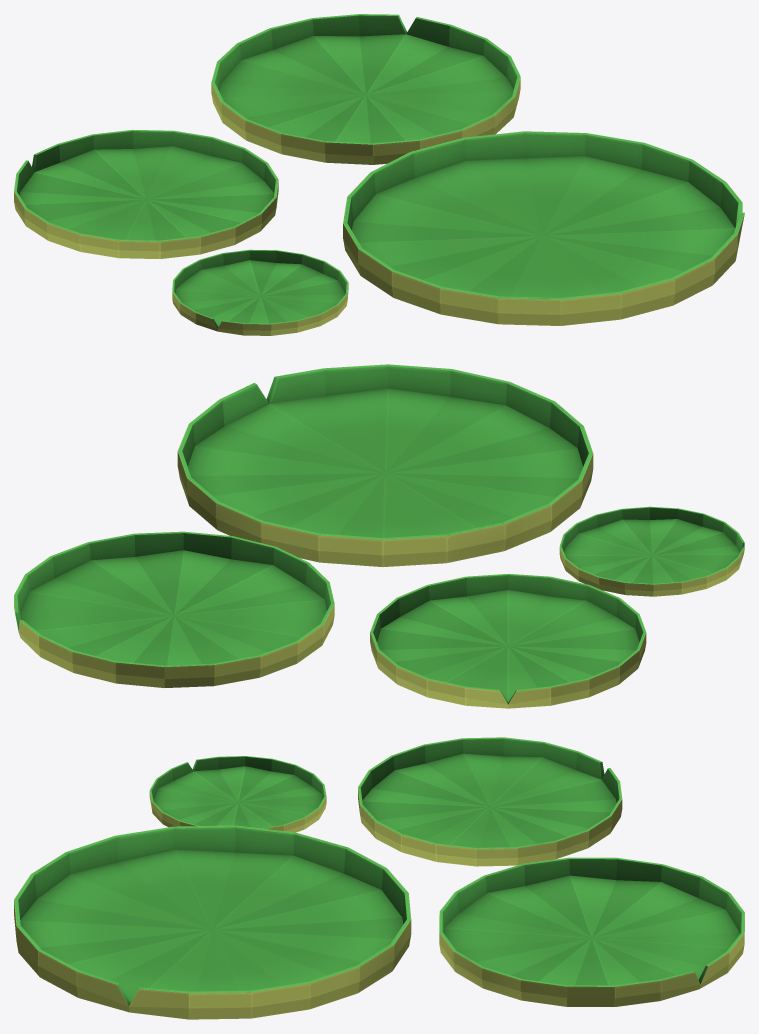
File: GiantWaterLilies.obj
3 views of the same model, one above another, from view 1: azimuth 30°, elevation 25°; view 2: azimuth 150°, elevation 25°; view 3: azimuth 270°, elevation 25° (orthographic). The views are drawn at different scales.
Parts seen in each view (by area): view 1: GiantWaterLilies_mesh; view 2: GiantWaterLilies_mesh; view 3: GiantWaterLilies_mesh.
Part boxes in pixels (x1,y1,x2,y2): GiantWaterLilies_mesh: (14,14,744,335); GiantWaterLilies_mesh: (14,364,744,708); GiantWaterLilies_mesh: (14,737,744,1019).
Bounding box in the file's own units: 18.53 × 0.8835 × 21.59.
1 material, 1 textured.
